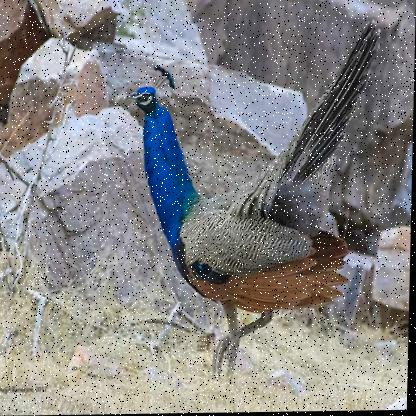Burung: (118, 20, 381, 376)
